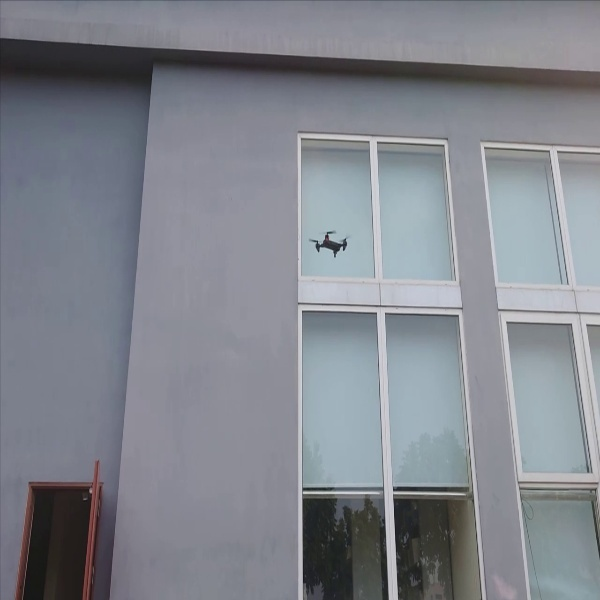drone: (309, 225, 352, 261)
